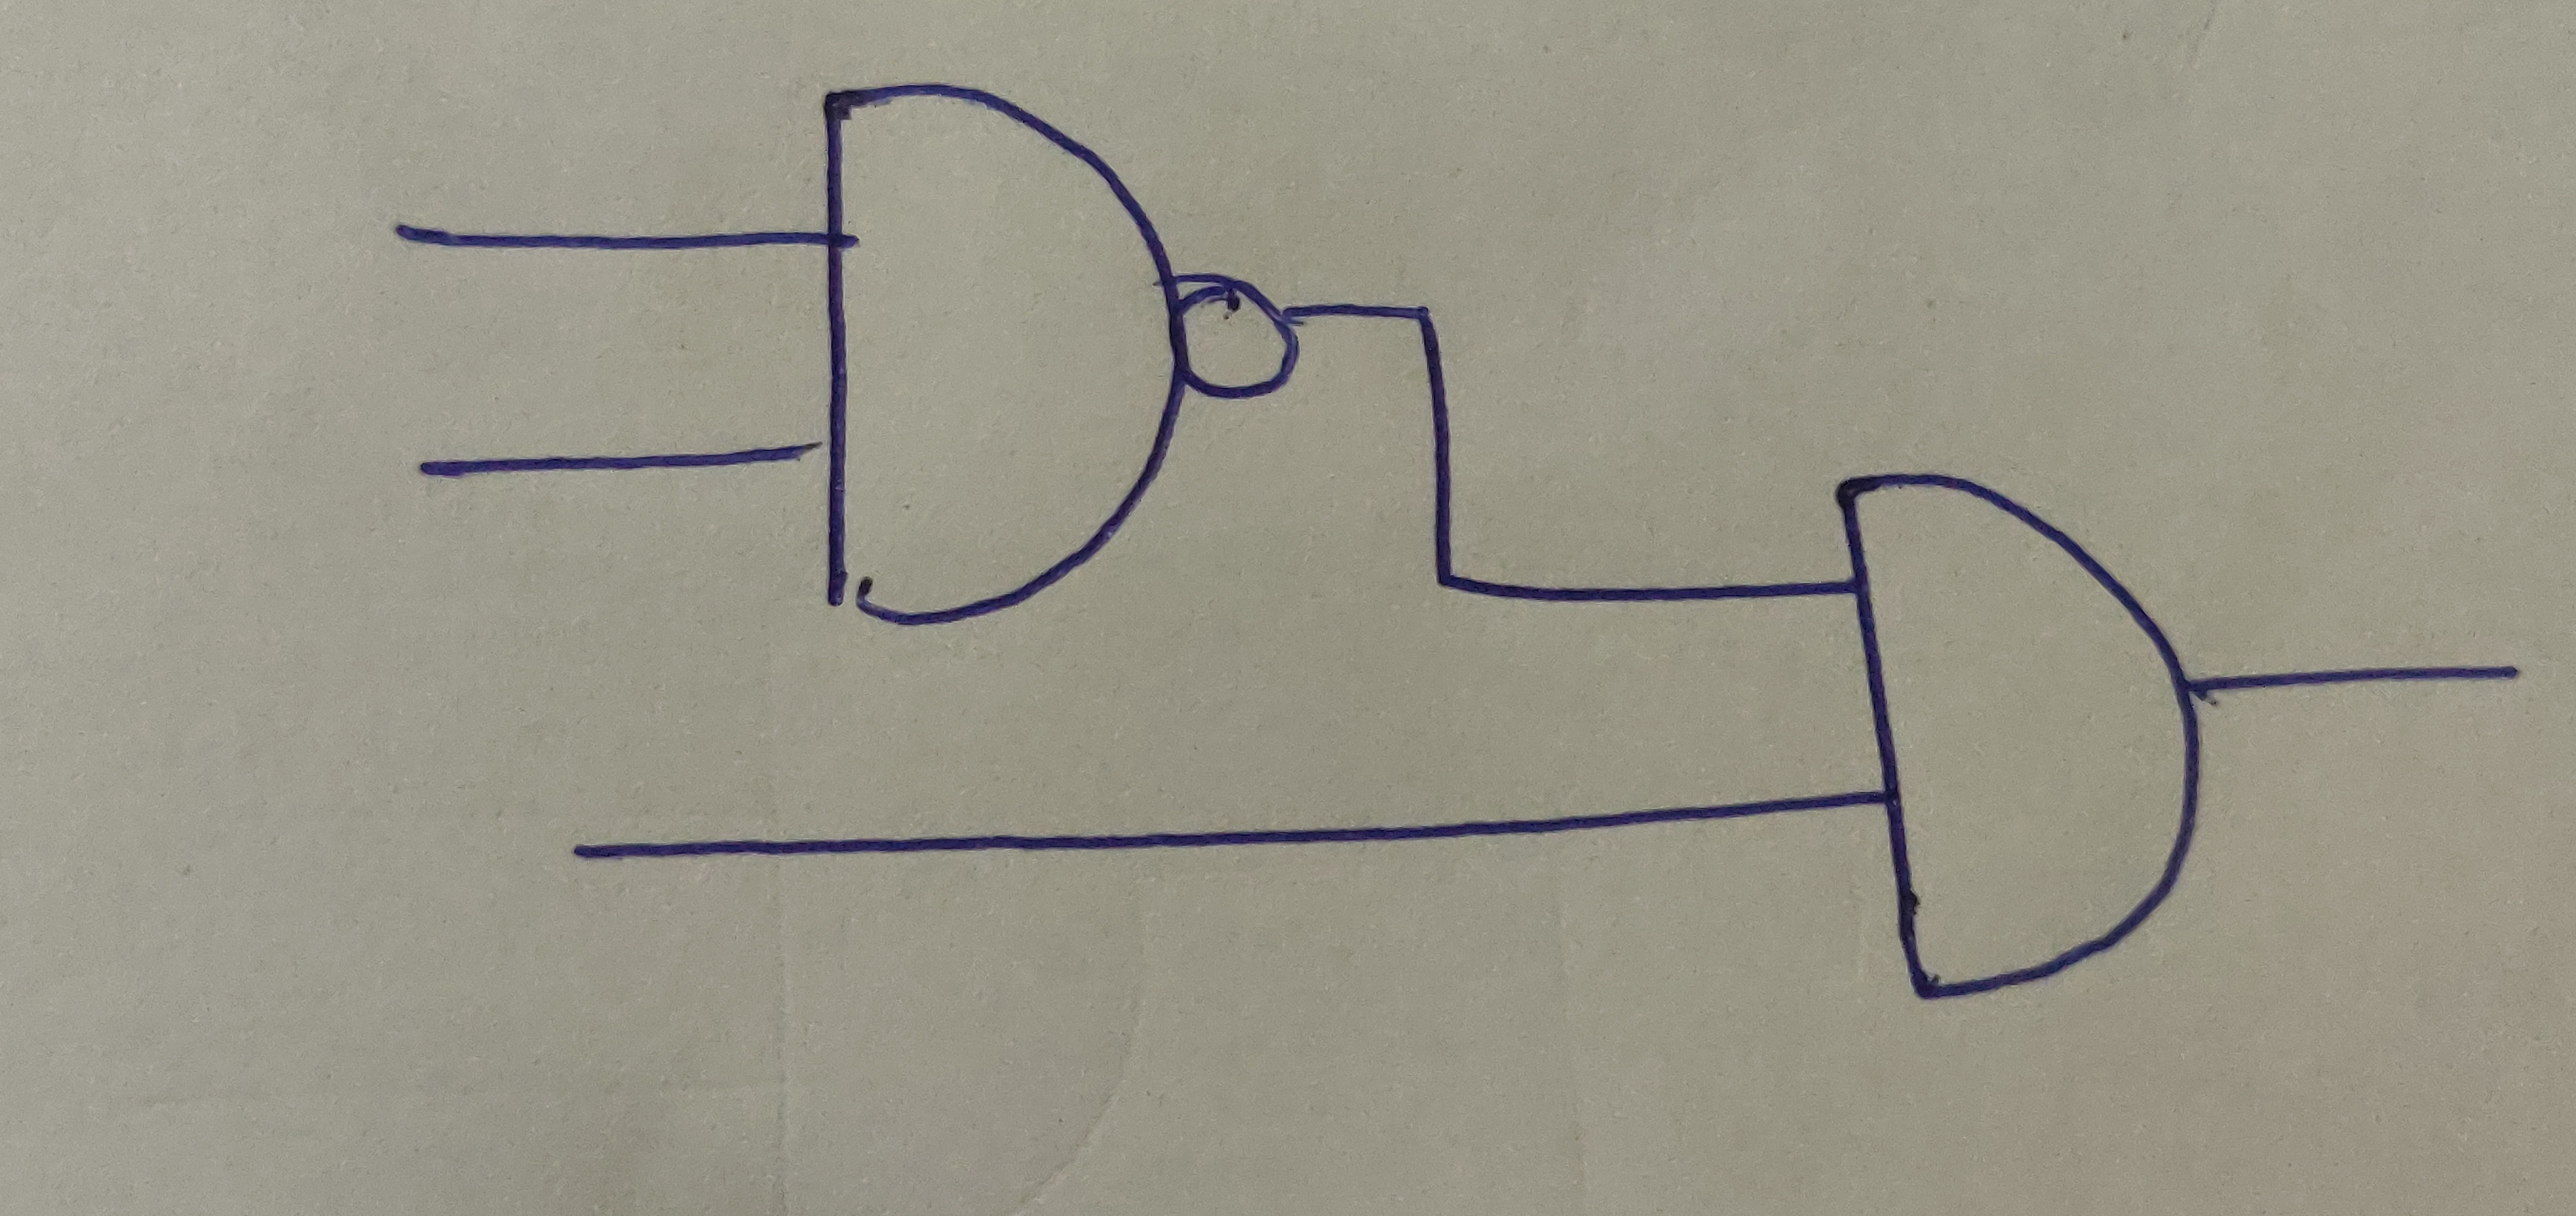and: (1827, 470, 2200, 1004), (817, 76, 1178, 623)
not: (1175, 278, 1303, 404)
